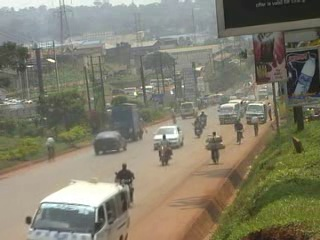Car: (150, 123, 185, 151), (91, 129, 127, 155)
Motorcycle: (114, 168, 133, 204), (156, 142, 171, 167), (191, 123, 203, 138), (199, 114, 208, 128)
